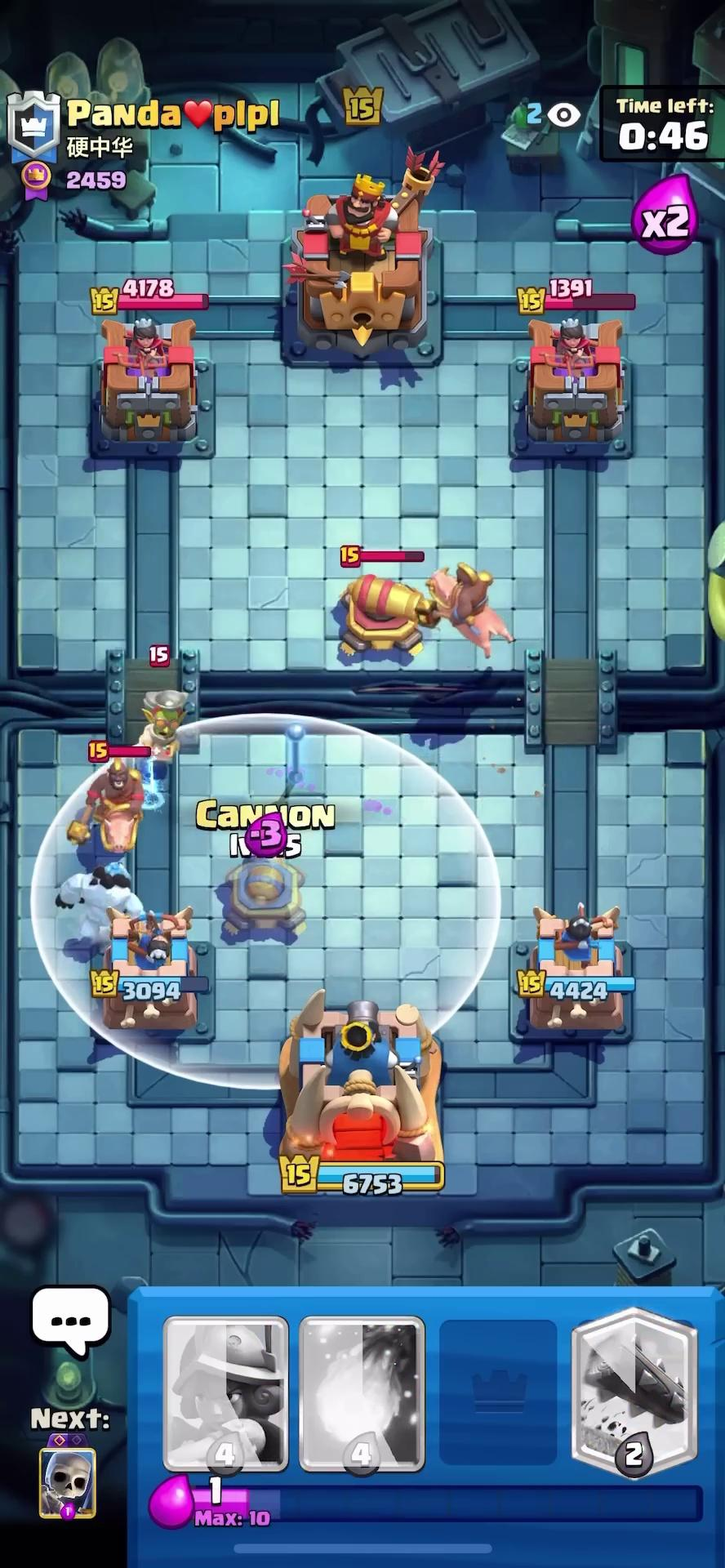hog_rider: (412, 557, 520, 680)
ice_golem: (57, 858, 153, 945)
